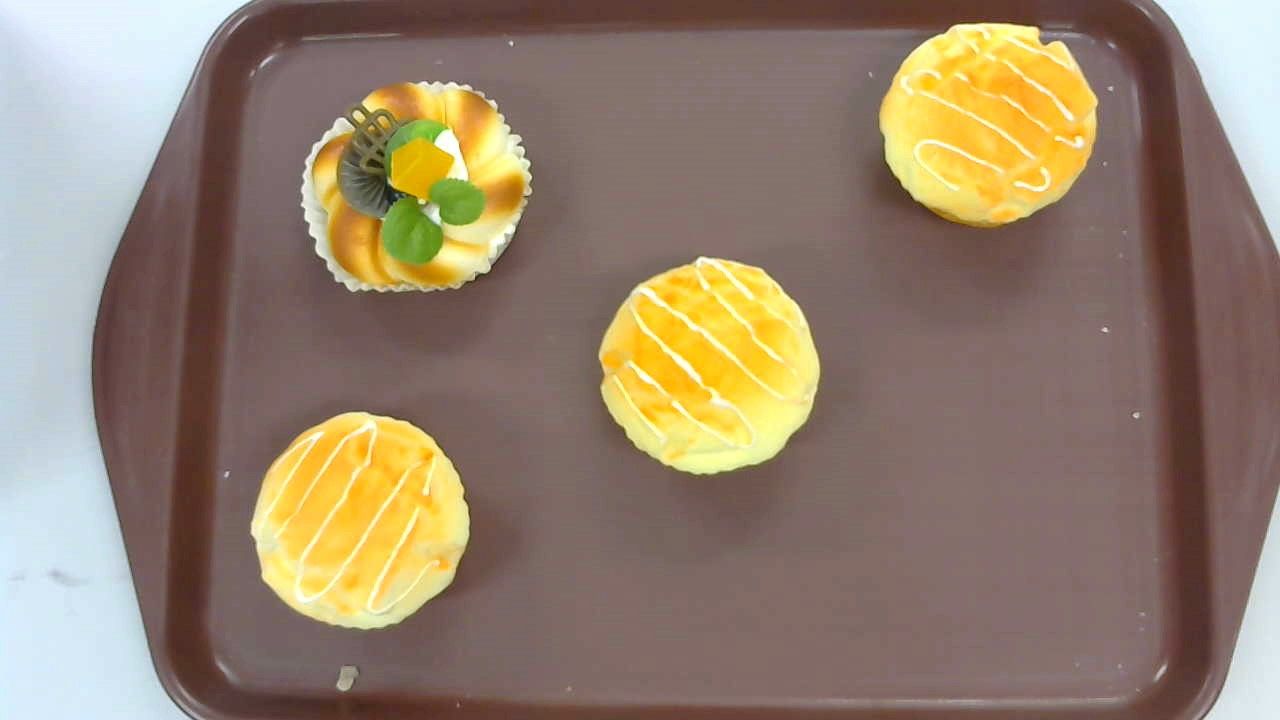cupcake: (599, 255, 820, 476), (249, 410, 470, 630), (879, 22, 1099, 229)
fruit tart: (300, 80, 533, 294)
